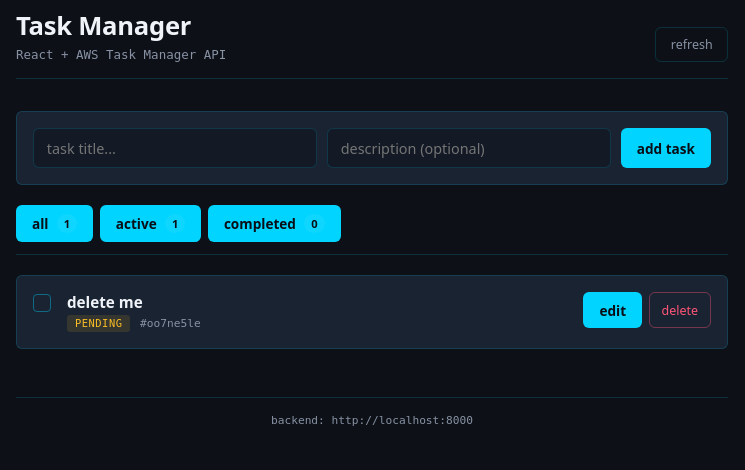
Test: App: deleting a task › removes the task from the list after a successful delete
Check: the text "delete me" is shown, box [67,292,143,312]
What coordinates should you click on to do the following:
click the button with aria-label "delete task"
I would click on:
 (680, 310)
Its box is [648,292,711,328].
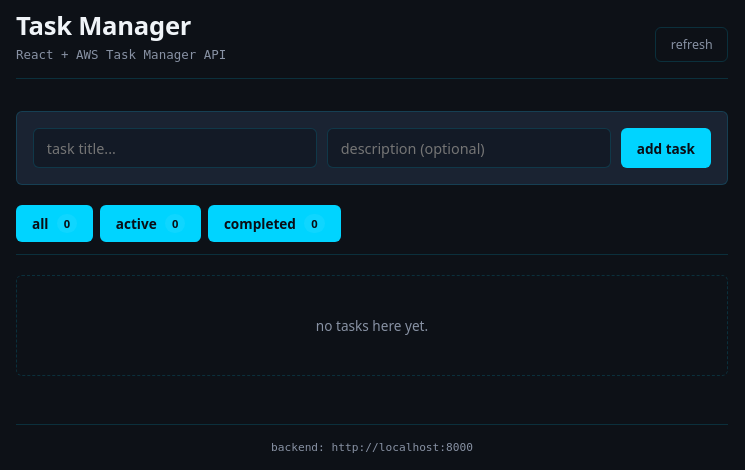
Check: the text "delete me" is gone
